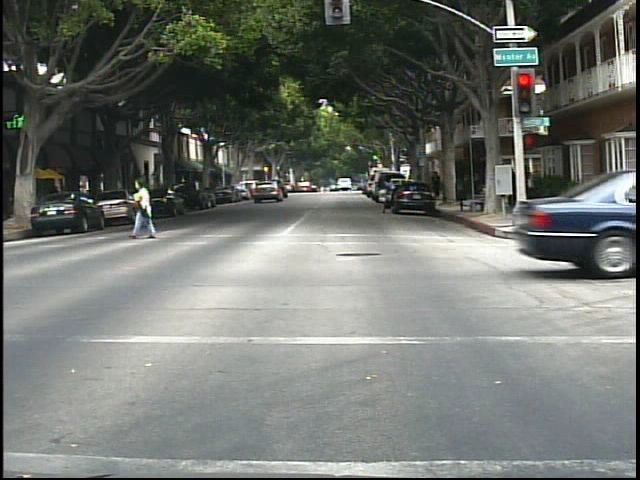person: (127, 173, 162, 241), (428, 165, 448, 203), (375, 175, 392, 217)
